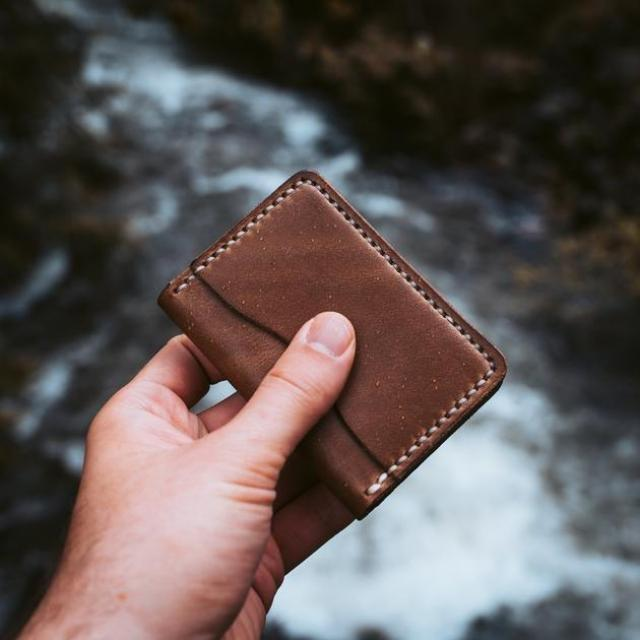Wallet: (160, 172, 506, 520)
